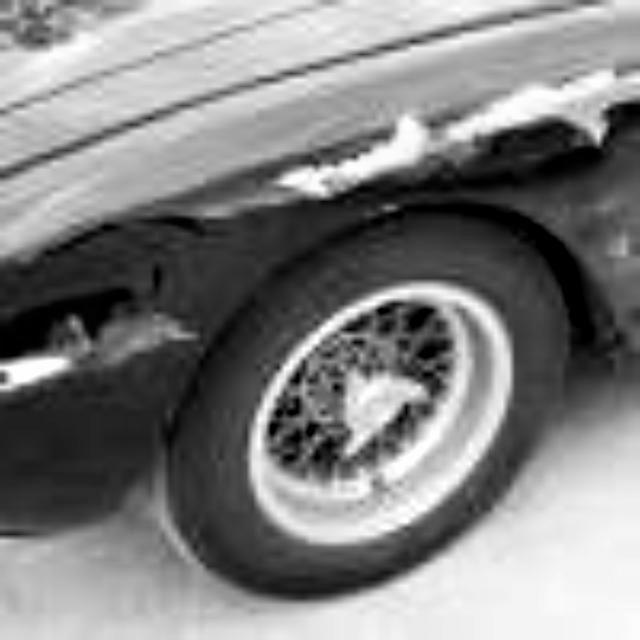front-bumper-dent: (199, 26, 634, 378)
